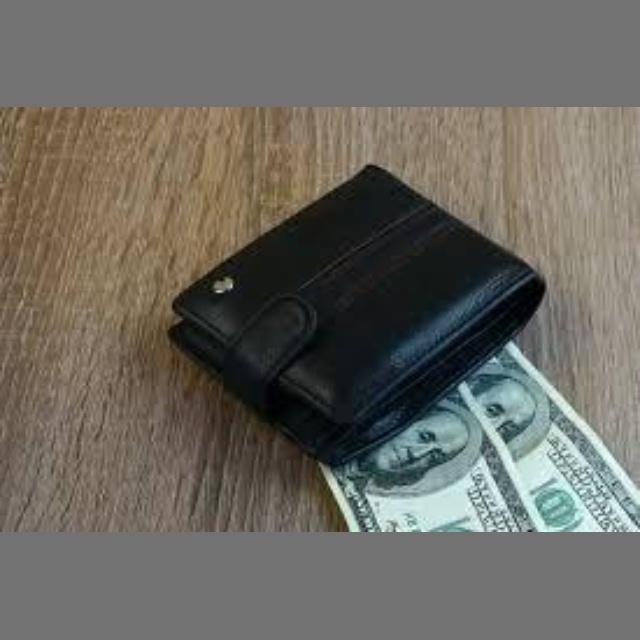Wallet: (156, 150, 584, 450)
